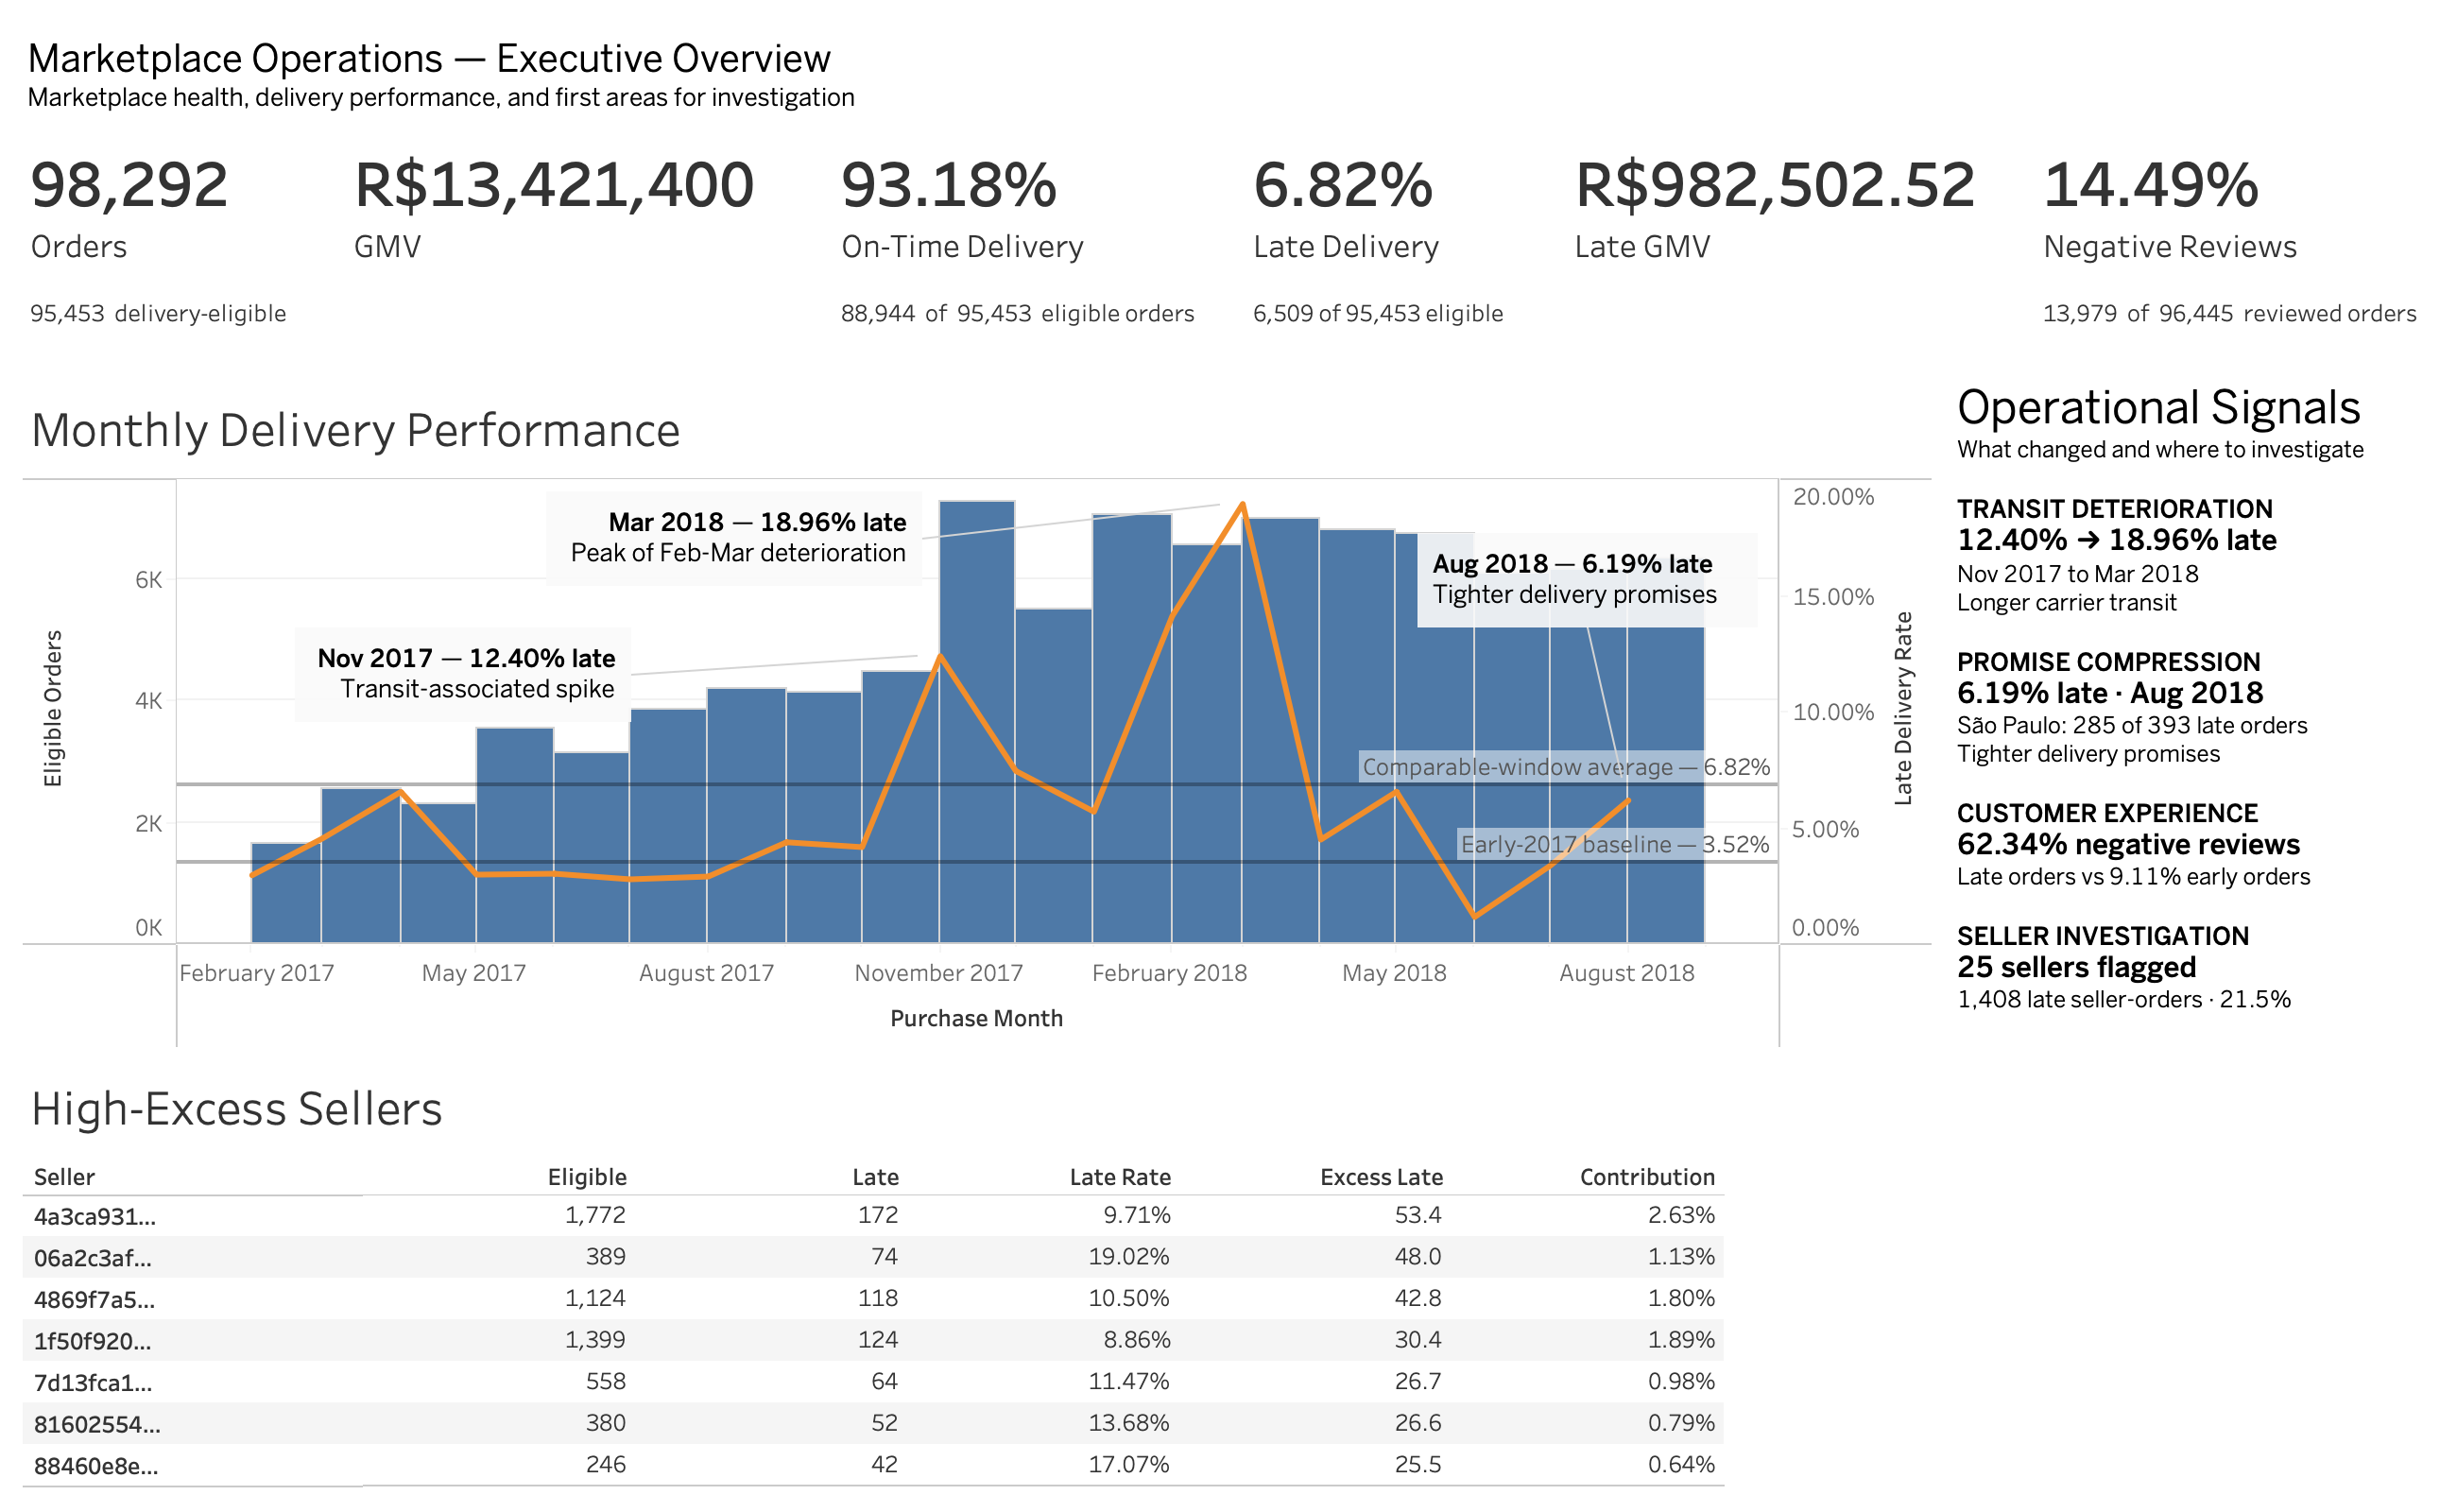

Layout of this report page (visuals, bound fields, positions):
{"tool":"tableau","page":{"name":"Dashboard 1","canvas":[1300,800],"ordinal":0},"visuals":[{"type":"text","box":[8,8,1284,63]},{"type":"worksheet","title":"KPI - Orders","mark":"Automatic","box":[8,71,171,129]},{"type":"worksheet","title":"KPI - GMV","mark":"Automatic","box":[179,71,258,129]},{"type":"worksheet","title":"KPI - On Time","mark":"Automatic","box":[437,71,218.5,129]},{"type":"worksheet","title":"KPI - Late Delivery","mark":"Automatic","box":[655.5,71,170,129]},{"type":"worksheet","title":"KPI - Late GMV","mark":"Automatic","box":[825.5,71,248,129]},{"type":"worksheet","title":"KPI - Negative Reviews","mark":"Automatic","box":[1073.5,71,218.5,129]},{"type":"worksheet","title":"Monthly Delivery Performance","mark":"Bar","rows":["delivery_performance_eligible","late_delivery_rate"],"cols":["purchase_month"],"box":[8,200,1019,359]},{"type":"text","box":[1027,200,265,348]},{"type":"worksheet","title":"High-Excess Sellers","mark":"Automatic","rows":["Calculation_2197899672317952"],"box":[8,559,1284,233]}]}

Visuals, with their boxes in screenshot pixels (x1, y1, x2, y2), scaled from the page's 1300x800 canvas onto the 2457x1512 screenshot:
text: <box>15,15,2442,134</box>
"KPI - Orders" worksheet: <box>15,134,338,378</box>
"KPI - GMV" worksheet: <box>338,134,826,378</box>
"KPI - On Time" worksheet: <box>826,134,1239,378</box>
"KPI - Late Delivery" worksheet: <box>1239,134,1560,378</box>
"KPI - Late GMV" worksheet: <box>1560,134,2029,378</box>
"KPI - Negative Reviews" worksheet: <box>2029,134,2442,378</box>
"Monthly Delivery Performance" worksheet (Bar marks): <box>15,378,1941,1057</box>
text: <box>1941,378,2442,1036</box>
"High-Excess Sellers" worksheet: <box>15,1057,2442,1497</box>
